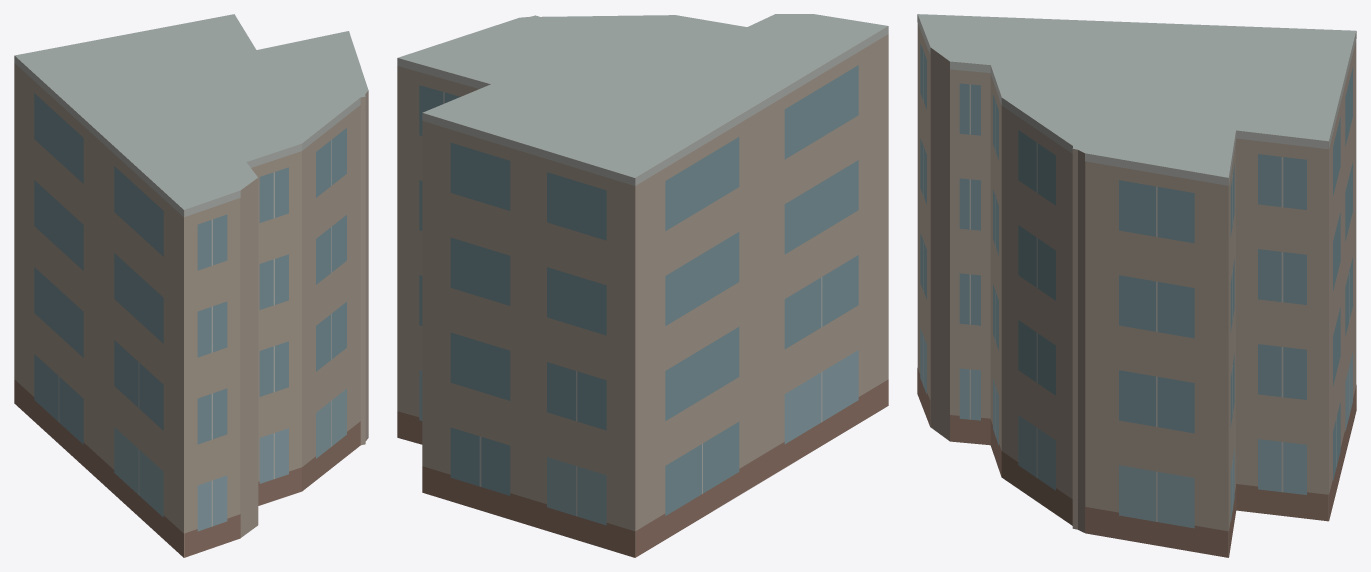
The model's file is survey-upis-32820726.glb.
The picture shows the model from 3 angles, left to right: view 1: azimuth 30°, elevation 25°; view 2: azimuth 150°, elevation 25°; view 3: azimuth 270°, elevation 25°; orthographic projection. The views are drawn at different scales.
Parts seen in each view (by area): view 1: survey-upis-32820726.tmp; view 2: survey-upis-32820726.tmp; view 3: survey-upis-32820726.tmp.
Boxes of the visible parts, bbox=[...] form: survey-upis-32820726.tmp: bbox=[14, 14, 368, 557]; survey-upis-32820726.tmp: bbox=[397, 14, 888, 557]; survey-upis-32820726.tmp: bbox=[917, 14, 1356, 557].
Size of the model in its own units: 10.74 by 11.6 by 12.15.
